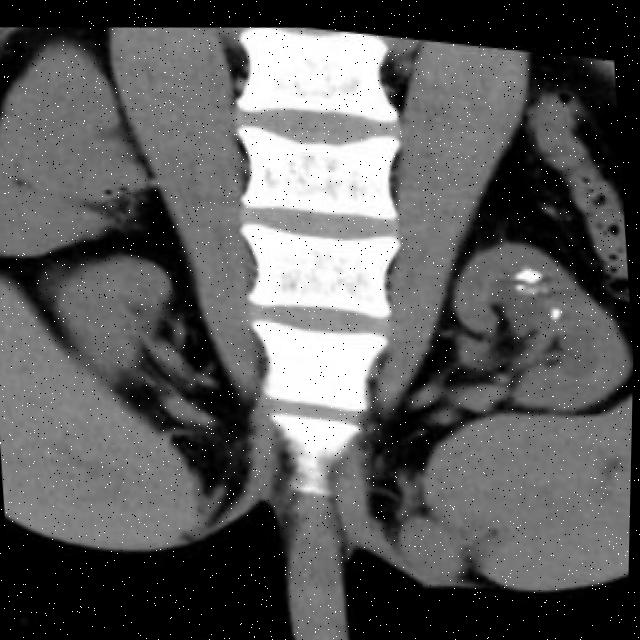Tas_Var: (511, 254, 544, 277), (546, 290, 565, 314), (525, 272, 540, 287), (539, 274, 553, 288), (512, 271, 527, 283)
